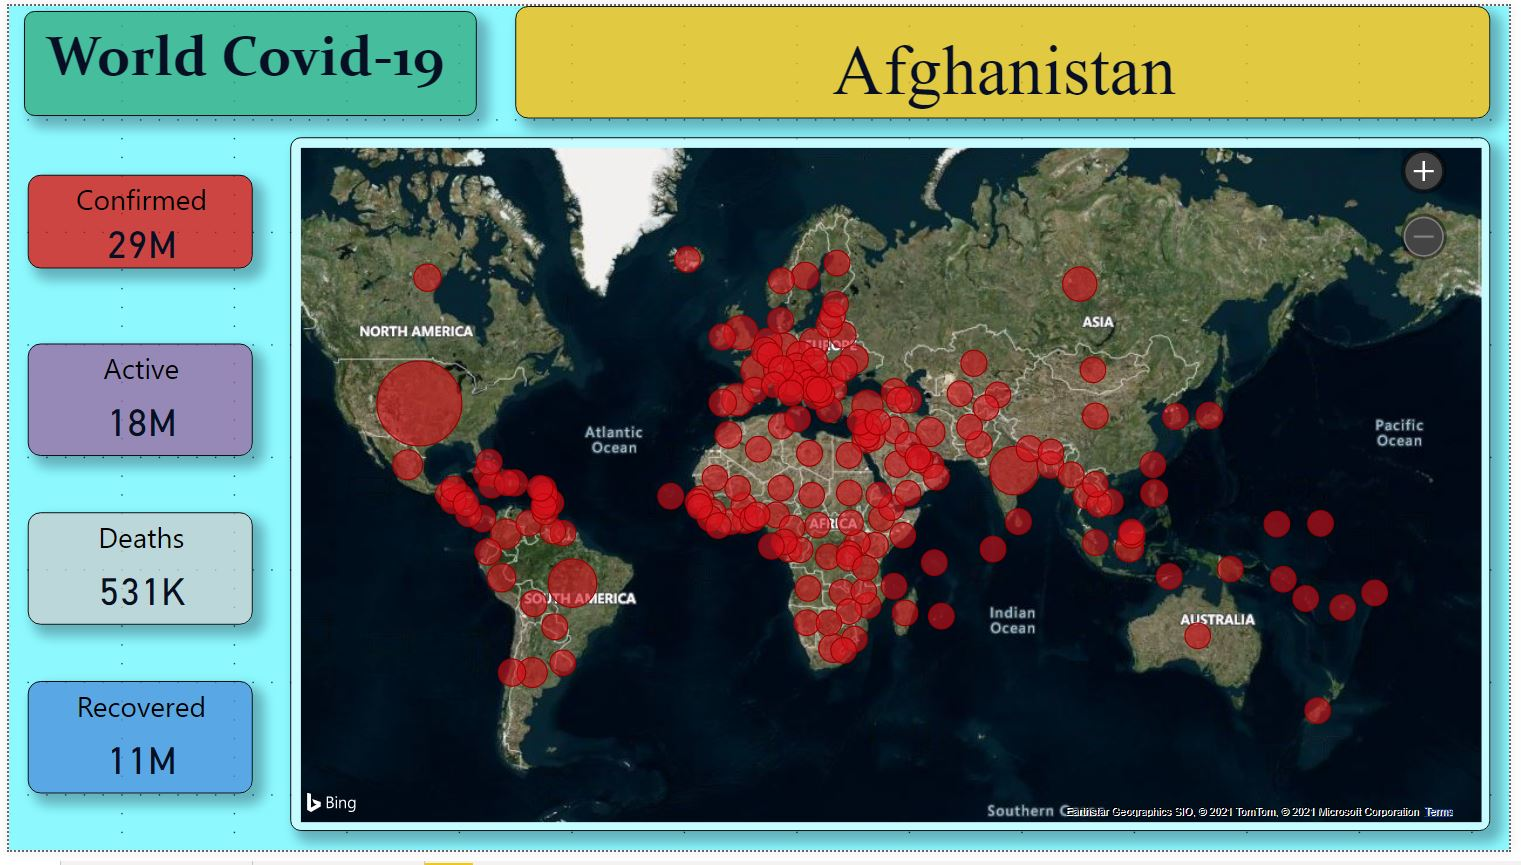

The dashboard page shown, as its layout file describes it:
{"tool":"powerbi","page":{"name":"Covid Map","canvas":[1280,720],"ordinal":0},"visuals":[{"type":"map","fields":{"Size":["Max(covid_cases_data.Confirmed)"],"Category":["covid_cases_data.Country"]},"box":[240,112,1024,592],"z":0},{"type":"textbox","box":[12.4,4.1,386.2,89.7],"z":1000},{"type":"card","title":"Active","fields":{"Values":["covid_cases_data.Active"]},"box":[16,288,192,96],"z":2000},{"type":"card","title":"Confirmed","fields":{"Values":["Max(covid_cases_data.Confirmed)"]},"box":[16,144,192,80],"z":3000},{"type":"card","title":"Deaths","fields":{"Values":["Max(covid_cases_data.Deaths)"]},"box":[16,432,192,96],"z":4000},{"type":"card","title":"Recovered","fields":{"Values":["Max(covid_cases_data.Recovered)"]},"box":[16,576,192,96],"z":5000},{"type":"card","title":"Confirmed","fields":{"Values":["Min(covid_cases_data.Country)"]},"box":[432,0,832,96],"z":6001}]}

Visuals, with their boxes in screenshot pixels (x1, y1, x2, y2), scaled from the page's 1280x720 canvas onto the 1521x865 screenshot:
map - Max(covid_cases_data.Confirmed) x covid_cases_data.Country: left=285, top=135, right=1502, bottom=846
textbox: left=15, top=5, right=474, bottom=113
"Active" card: left=19, top=346, right=247, bottom=461
"Confirmed" card: left=19, top=173, right=247, bottom=269
"Deaths" card: left=19, top=519, right=247, bottom=634
"Recovered" card: left=19, top=692, right=247, bottom=807
"Confirmed" card: left=513, top=0, right=1502, bottom=115
